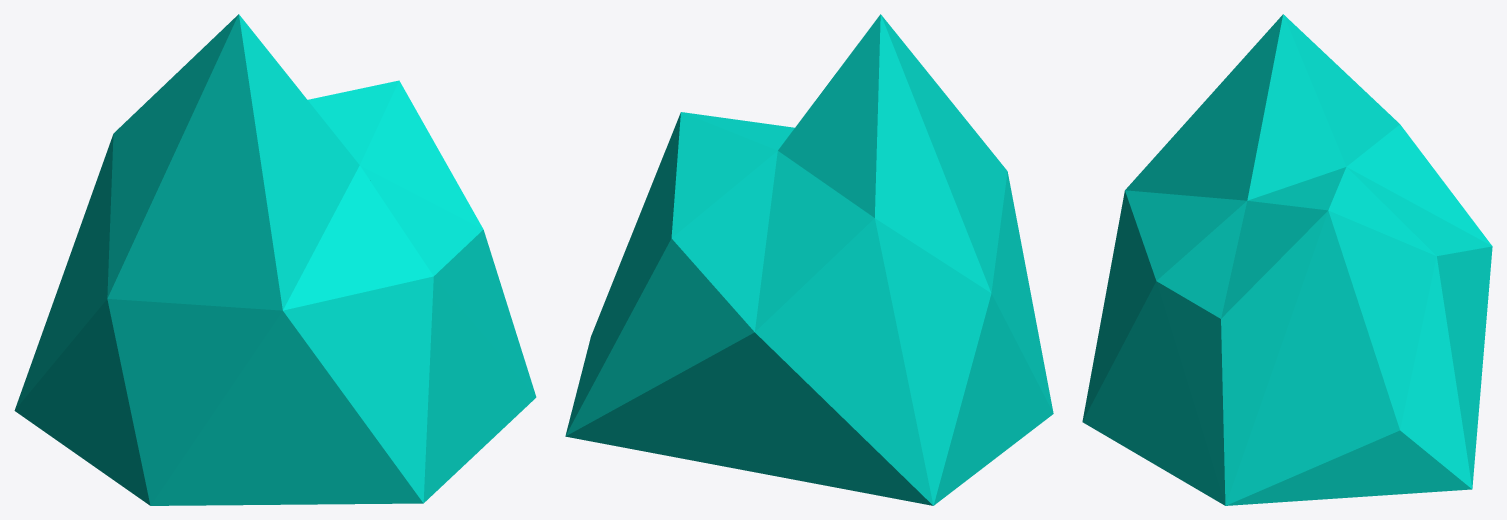
Rendered from hyoukai3_Motion.fbx.
3 renders of one model, left to right at view 1: azimuth 30°, elevation 25°; view 2: azimuth 150°, elevation 25°; view 3: azimuth 270°, elevation 25°, orthographic. The views are drawn at different scales.
Parts seen in each view (by area): view 1: polySurface26, polySurface31, polySurface28, polySurface6, polySurface3, polySurface11, polySurface32, polySurface24, polySurface8, polySurface16; view 2: polySurface24, polySurface31, polySurface14, polySurface30, polySurface22, polySurface3, polySurface16, polySurface32, polySurface10, polySurface26, polySurface20, polySurface17; view 3: polySurface31, polySurface8, polySurface11, polySurface20, polySurface6, polySurface28, polySurface22, polySurface30, polySurface2, polySurface17, polySurface16, polySurface10.
Part boxes in pixels (box(x1,y1,x2,y2)): polySurface26: box(107, 299, 423, 505); polySurface31: box(113, 14, 359, 310); polySurface28: box(283, 165, 433, 502); polySurface6: box(423, 276, 536, 502); polySurface3: box(14, 299, 150, 505); polySurface11: box(360, 81, 483, 275); polySurface32: box(107, 134, 282, 310); polySurface24: box(15, 134, 113, 409); polySurface8: box(434, 230, 536, 396); polySurface16: box(308, 80, 399, 164); polySurface24: box(755, 218, 991, 505); polySurface31: box(778, 14, 1007, 217); polySurface14: box(641, 332, 932, 505); polySurface30: box(671, 151, 874, 331); polySurface22: box(591, 238, 754, 394); polySurface3: box(933, 293, 1053, 505); polySurface16: box(671, 112, 794, 237); polySurface32: box(875, 171, 1007, 292); polySurface10: box(565, 336, 675, 457); polySurface26: box(991, 172, 1053, 413); polySurface20: box(591, 180, 671, 335); polySurface17: box(654, 112, 680, 237); polySurface31: box(1125, 14, 1399, 200); polySurface8: box(1156, 281, 1399, 505); polySurface11: box(1156, 200, 1328, 328); polySurface20: box(1287, 256, 1436, 429); polySurface6: box(1082, 281, 1225, 505); polySurface28: box(1082, 190, 1246, 421); polySurface22: box(1400, 246, 1492, 429); polySurface30: box(1347, 124, 1491, 255); polySurface2: box(1226, 430, 1471, 505); polySurface17: box(1287, 210, 1436, 327); polySurface16: box(1248, 167, 1435, 255); polySurface10: box(1400, 392, 1480, 488).
Bounding box in the file's own units: 28.71 × 28.72 × 28.32.
